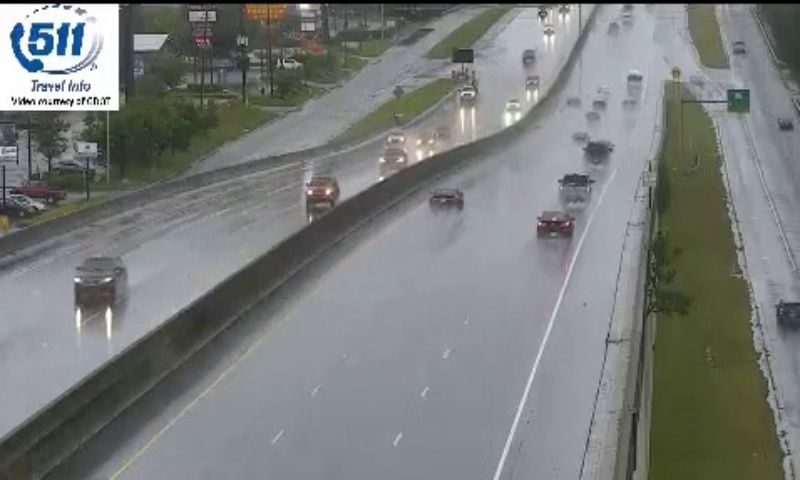car: (537, 211, 574, 240), (559, 173, 591, 205), (428, 186, 463, 213)
